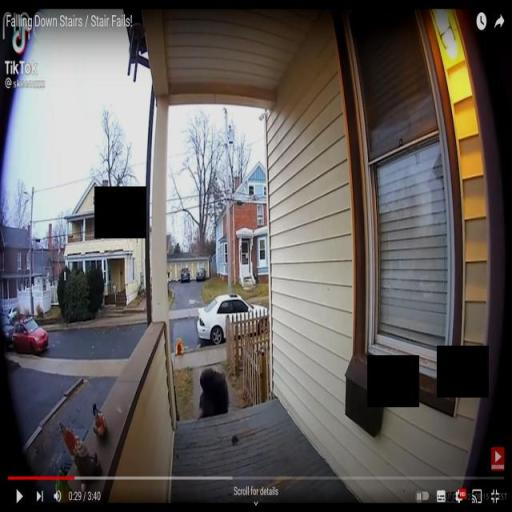Fall: (196, 361, 231, 422)
